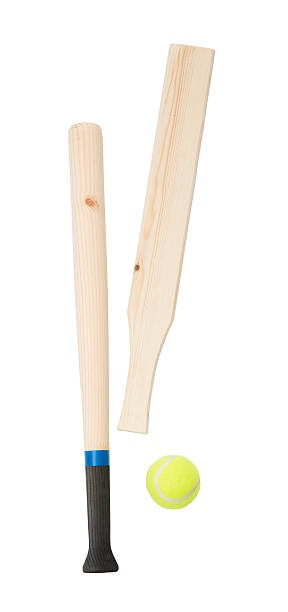bita: (71, 123, 122, 583)
